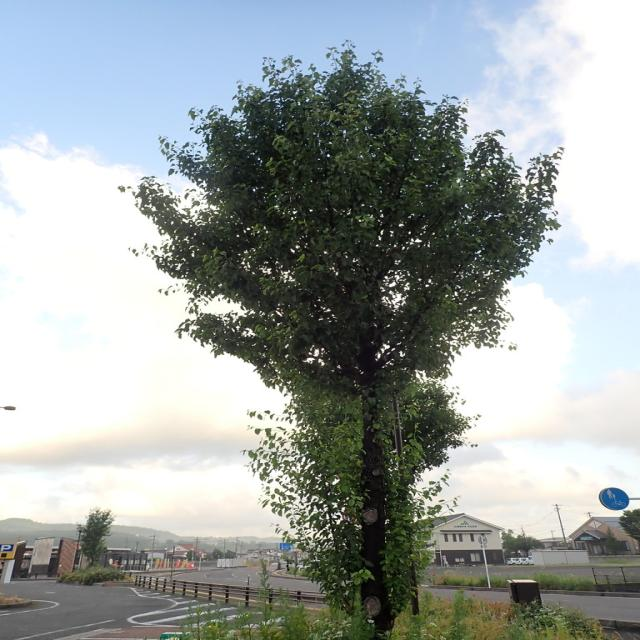camphor: (123, 55, 565, 640)
